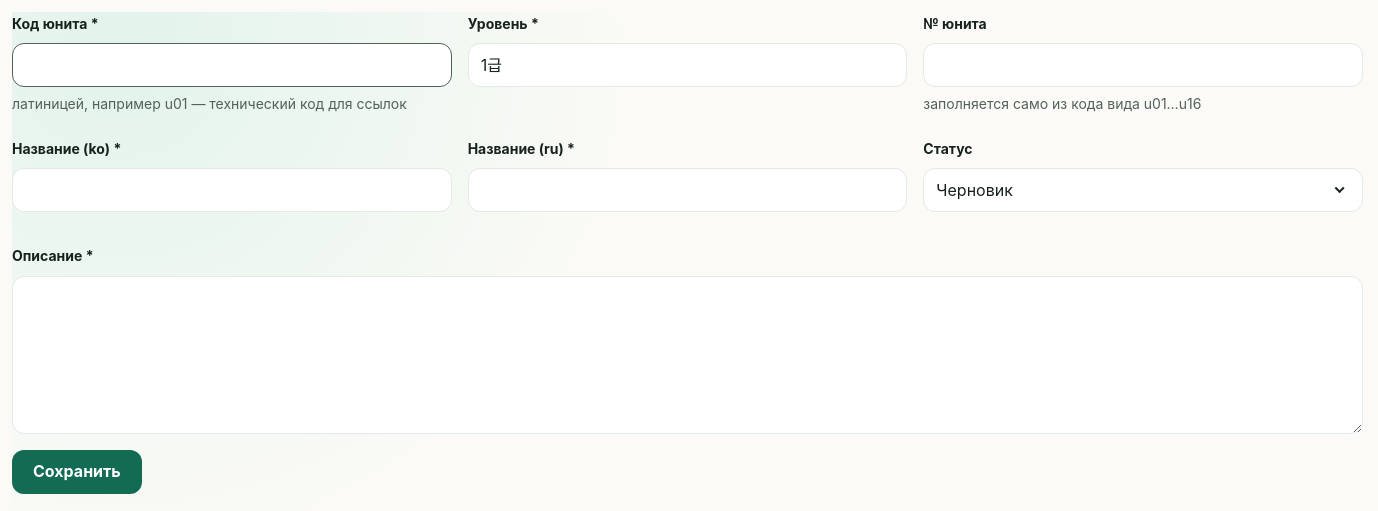
Test: UnitForm › derives unit number from the slug code
Step 1. Type "u09" into the field labelled "Код юнита *" → (232, 65), box [12,43,452,88]
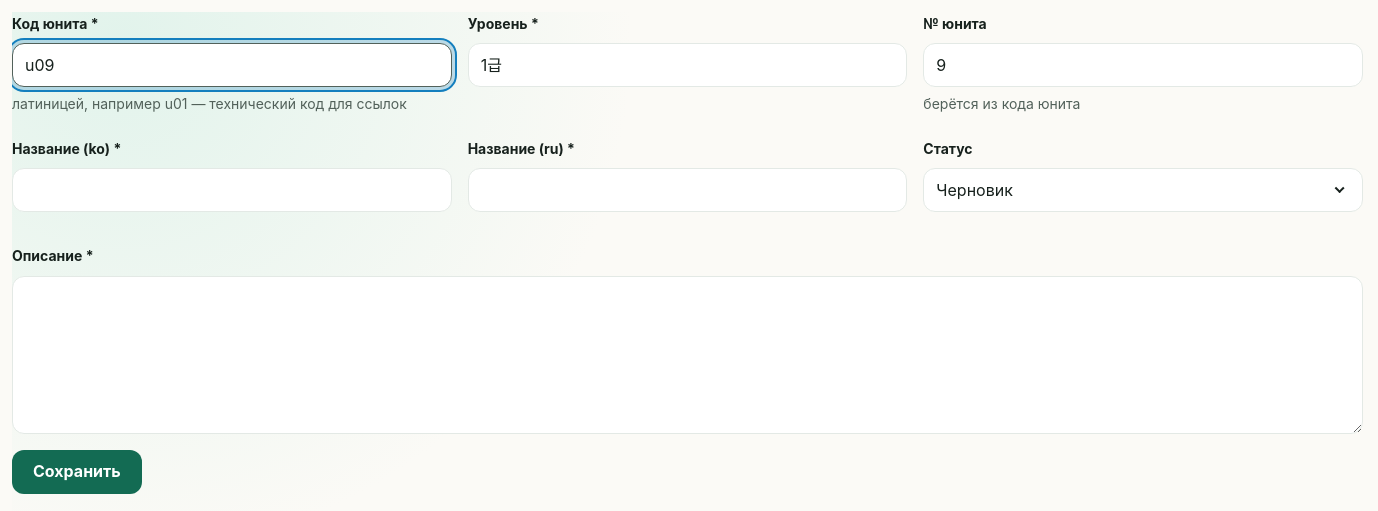
Now the field labelled "№ юнита" holds "9", box [923,43,1363,88]
